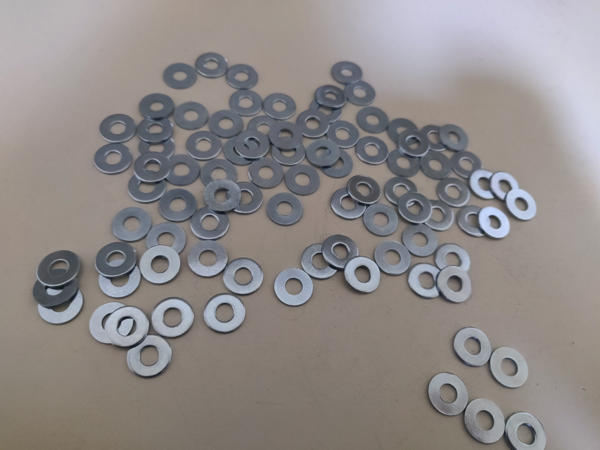circle: (125, 334, 173, 379), (90, 302, 136, 346), (463, 398, 507, 444), (150, 297, 196, 340), (488, 344, 531, 390), (105, 306, 150, 349), (428, 371, 470, 417), (37, 285, 85, 325), (99, 258, 142, 300), (273, 266, 316, 308), (203, 294, 247, 335), (34, 268, 80, 307), (504, 411, 549, 450), (140, 245, 182, 286), (453, 325, 492, 369), (223, 258, 265, 298), (37, 251, 82, 288), (300, 243, 342, 282), (95, 242, 138, 279), (189, 240, 229, 279), (343, 256, 383, 295), (190, 205, 232, 242), (145, 222, 187, 259), (112, 206, 153, 243), (158, 188, 198, 225), (417, 197, 457, 234), (401, 221, 440, 258), (323, 234, 361, 271), (375, 240, 413, 277), (408, 264, 444, 302), (285, 162, 323, 198), (439, 266, 474, 305), (383, 175, 423, 209), (137, 131, 177, 165), (436, 243, 473, 279), (128, 171, 167, 205), (94, 142, 134, 175), (477, 205, 513, 241), (456, 203, 492, 239), (330, 186, 367, 221), (267, 192, 304, 227), (227, 181, 264, 216), (363, 204, 401, 238), (204, 179, 242, 213), (248, 156, 285, 190), (200, 158, 238, 191), (224, 135, 262, 168), (165, 153, 201, 187), (436, 177, 473, 210), (134, 152, 171, 185), (268, 119, 305, 152), (418, 149, 455, 182), (245, 114, 282, 147), (186, 130, 224, 162), (387, 146, 423, 179), (397, 192, 434, 224), (208, 109, 245, 141), (324, 118, 361, 150), (346, 174, 383, 205), (386, 118, 423, 149), (99, 113, 137, 143), (505, 188, 538, 222), (470, 169, 504, 202), (235, 129, 270, 161), (272, 136, 307, 168), (262, 92, 299, 122), (356, 104, 390, 136), (450, 150, 485, 181), (162, 61, 199, 90), (137, 115, 175, 143), (489, 171, 523, 202), (356, 135, 390, 166), (174, 101, 209, 131), (297, 109, 332, 139), (418, 124, 453, 154), (139, 92, 175, 121), (196, 51, 230, 81), (230, 88, 264, 118), (321, 149, 355, 179), (308, 139, 342, 169), (437, 124, 472, 153), (313, 83, 350, 110), (398, 129, 431, 159), (344, 79, 378, 108), (330, 59, 365, 87), (228, 63, 259, 91)
